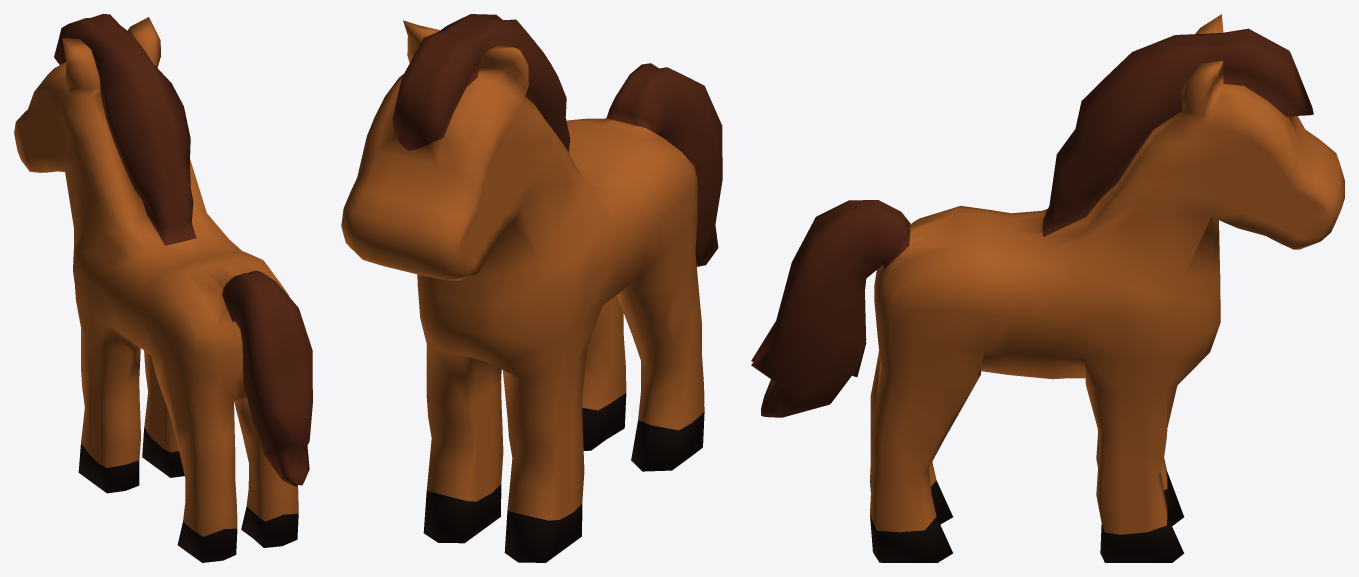
The model's file is horse.obj.
3 views of the same model, side by side, from view 1: azimuth 30°, elevation 25°; view 2: azimuth 150°, elevation 25°; view 3: azimuth 270°, elevation 25° (orthographic). The views are drawn at different scales.
Visible parts, largest first — view 1: Horse; view 2: Horse; view 3: Horse.
Part boxes in pixels (<box>): Horse: <box>14,14,312,562</box>; Horse: <box>341,14,722,562</box>; Horse: <box>751,14,1344,562</box>.
Bounding box in the file's own units: 0.6069 × 2 × 2.15.
